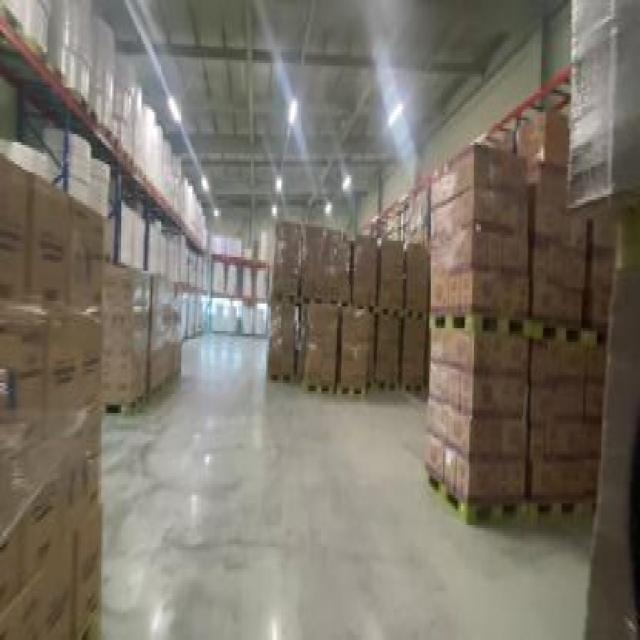white_roll: (426, 126, 612, 522), (2, 158, 108, 634), (263, 222, 426, 396), (3, 2, 117, 128), (100, 257, 185, 410), (49, 129, 111, 224), (115, 52, 158, 172), (209, 219, 269, 257), (209, 260, 268, 295), (157, 134, 181, 216), (214, 301, 268, 334), (148, 222, 178, 276), (183, 186, 209, 243), (119, 213, 146, 266), (180, 249, 208, 290), (175, 298, 203, 334)
